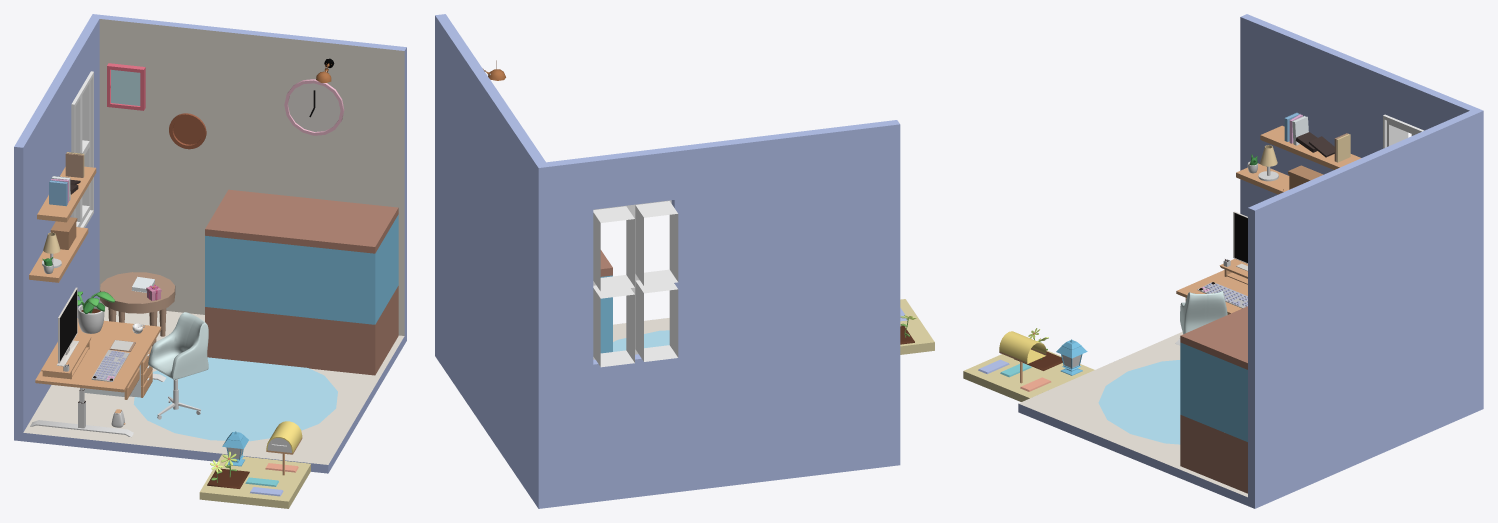
File: roommodel.glb
3 renders of one model, left to right at view 1: azimuth 30°, elevation 25°; view 2: azimuth 150°, elevation 25°; view 3: azimuth 270°, elevation 25°, orthographic. The views are drawn at different scales.
Visible parts, largest first — view 1: Cube.003, tankframe, tank, Circle.006, table Top, Cylinder.003, Cube.012, Cylinder.009, Plane, Cylinder.007, tank.001, Cube.075 (+15 smaller); view 2: Cube.003, Plane, Cube.012, tank, Circle.006; view 3: Cube.003, tankframe, Circle.006, tank, Cube.012, Cylinder.003, Cube.075, Cylinder.010, table Top, Cube.074, Plane, screen.
Boxes of the visible parts, bbox=[...] form: Cube.003: bbox=[14, 14, 406, 473]; tankframe: bbox=[205, 189, 398, 375]; tank: bbox=[205, 214, 398, 324]; Circle.006: bbox=[133, 357, 337, 441]; table Top: bbox=[35, 318, 161, 392]; Cylinder.003: bbox=[148, 312, 208, 419]; Cube.012: bbox=[199, 454, 310, 508]; Cylinder.009: bbox=[284, 79, 344, 135]; Plane: bbox=[71, 71, 93, 227]; Cylinder.007: bbox=[100, 272, 175, 313]; tank.001: bbox=[107, 63, 145, 110]; Cube.075: bbox=[37, 166, 96, 222]; Cube.003: bbox=[435, 14, 900, 508]; Plane: bbox=[593, 200, 678, 367]; Cube.012: bbox=[900, 299, 934, 354]; tank: bbox=[600, 275, 612, 353]; Circle.006: bbox=[613, 330, 669, 351]; Cube.003: bbox=[1018, 14, 1483, 508]; tankframe: bbox=[1180, 306, 1247, 493]; Circle.006: bbox=[1098, 360, 1180, 444]; tank: bbox=[1180, 342, 1247, 441]; Cube.012: bbox=[963, 350, 1094, 401]; Cylinder.003: bbox=[1180, 290, 1227, 334]; Cube.075: bbox=[1260, 125, 1361, 169]; Cylinder.010: bbox=[999, 331, 1046, 363]; table Top: bbox=[1176, 270, 1247, 314]; Cube.074: bbox=[1236, 163, 1289, 194]; Plane: bbox=[1383, 114, 1423, 148]; screen: bbox=[1234, 213, 1247, 262].
Size of the model in its own units: 24 by 16.97 by 26.83.
